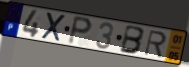3: (95, 22, 115, 50)
4: (22, 9, 40, 39)
B: (118, 24, 146, 56)
P: (66, 14, 94, 47)
R: (143, 29, 168, 60)
X: (40, 11, 67, 44)
